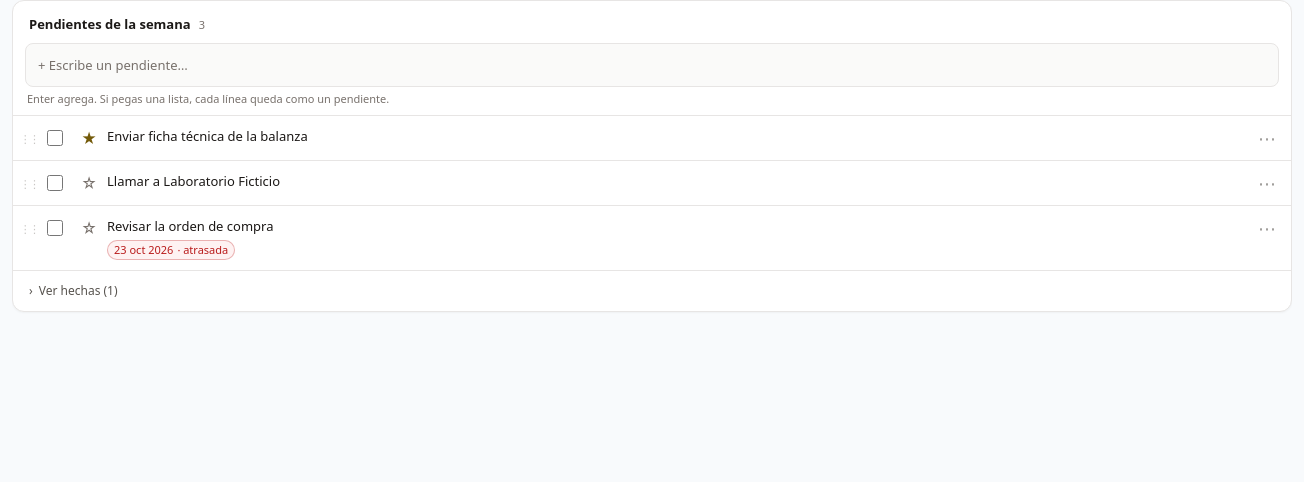
Test: «Pendientes de la semana» › «Subir» moves a line to the top of its group; the first line cannot go up
Click the button named "Más acciones" at (1267, 228), box [1251,210,1283,246]
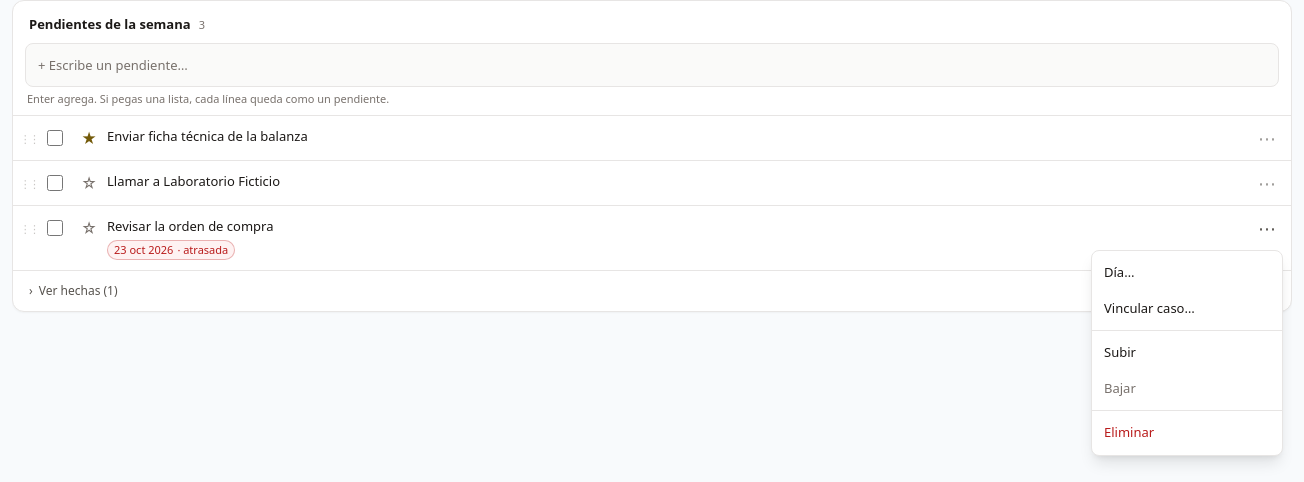
Click the menu item "Subir" at (1187, 353), box [1092,335,1282,370]
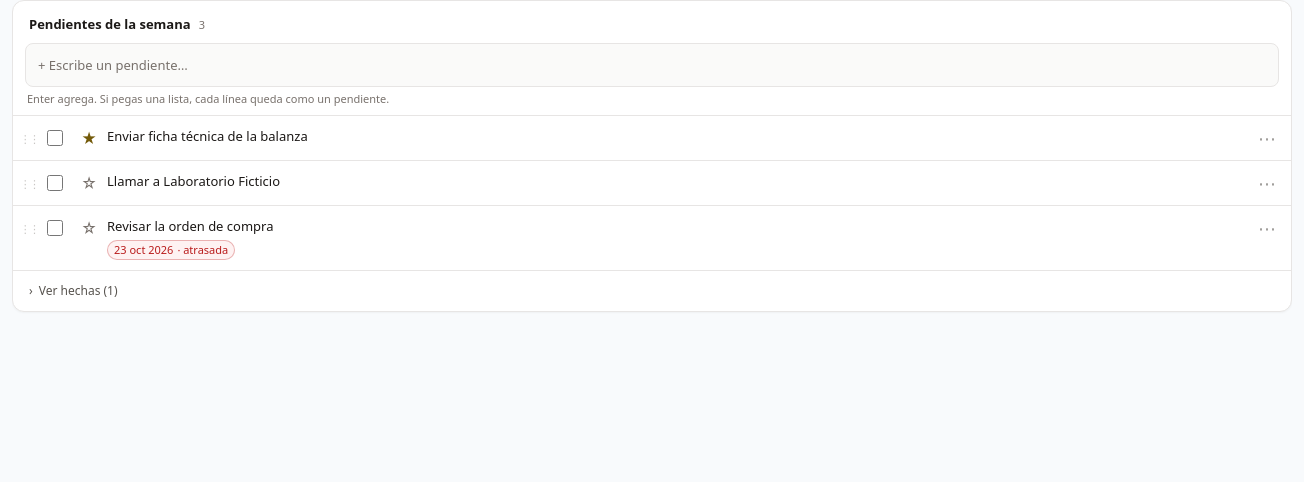
Click the button named "Más acciones" at (1267, 138), box [1251,120,1283,156]
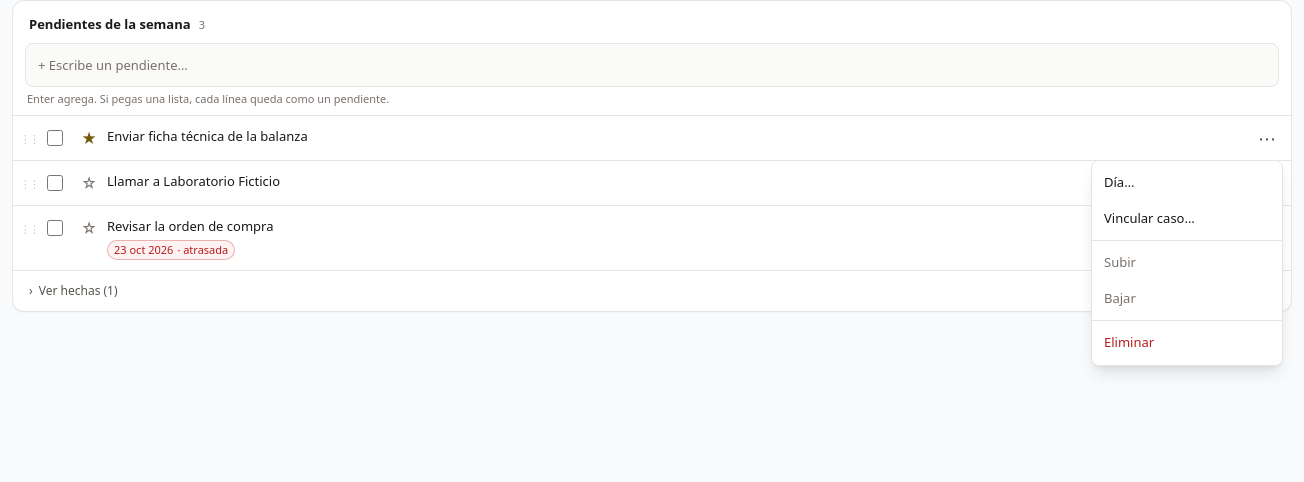
Result: the menu item "Subir" is disabled at [1092,245,1282,280]
Result: the menu item "Bajar" is disabled at [1092,280,1282,316]
